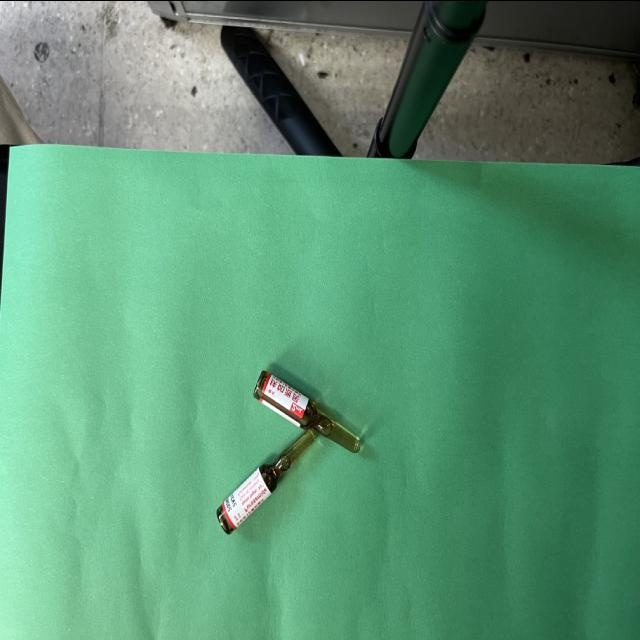Ampoules: (216, 427, 318, 533), (254, 371, 360, 451)
